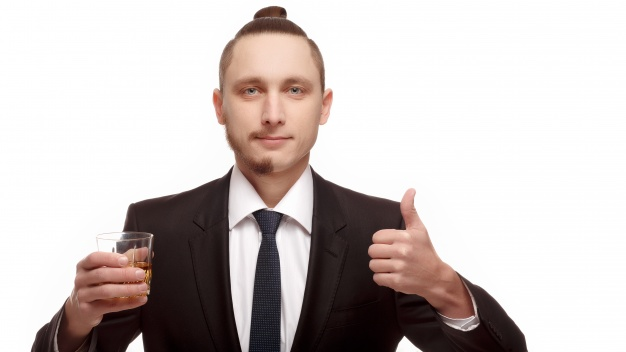thumbsup: (368, 188, 418, 287)
